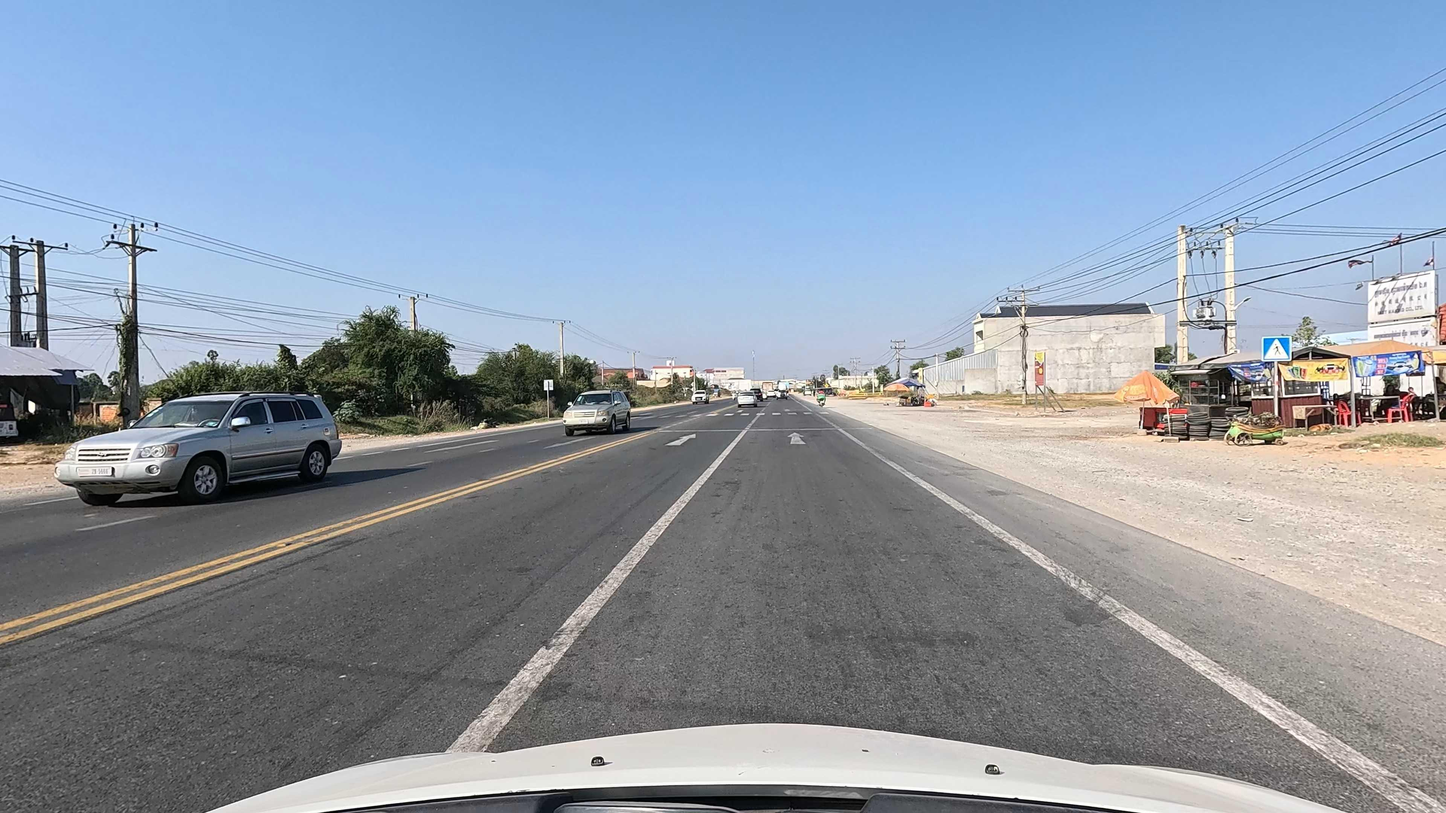pedestrian_crossing: (1261, 335, 1293, 362)
